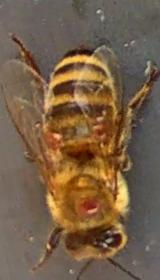varroa_mite: (82, 114, 117, 149), (38, 117, 66, 148), (78, 183, 101, 219)
